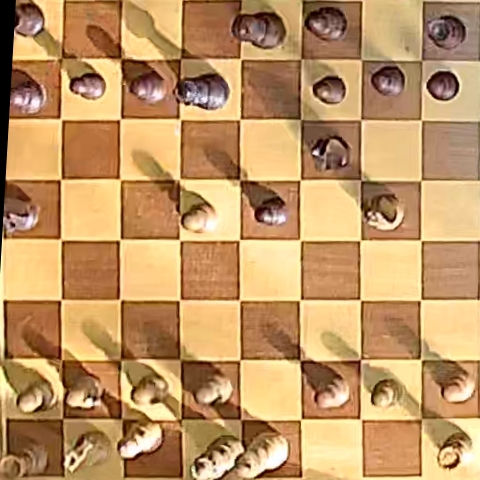black-bishop: (305, 6, 348, 42)
black-king: (231, 12, 285, 49)
black-knight: (310, 136, 349, 171), (4, 198, 41, 234)
black-pawn: (10, 77, 47, 114), (130, 71, 167, 103), (370, 66, 405, 97), (426, 71, 459, 101), (70, 73, 105, 101), (312, 76, 346, 104), (255, 201, 288, 226)
black-queen: (172, 73, 228, 109)
black-rook: (426, 15, 466, 50), (15, 2, 44, 37)
white-bishop: (119, 421, 163, 460)
white-king: (231, 432, 288, 478)
white-knight: (65, 430, 110, 473), (364, 194, 405, 231)
white-pawn: (192, 369, 233, 406), (17, 379, 58, 414), (66, 374, 103, 410), (313, 375, 350, 409), (132, 374, 169, 407), (442, 371, 476, 403), (182, 202, 217, 233), (371, 379, 401, 408)
white-queen: (192, 435, 245, 480)
white-rook: (1, 443, 48, 477), (437, 432, 472, 470)
